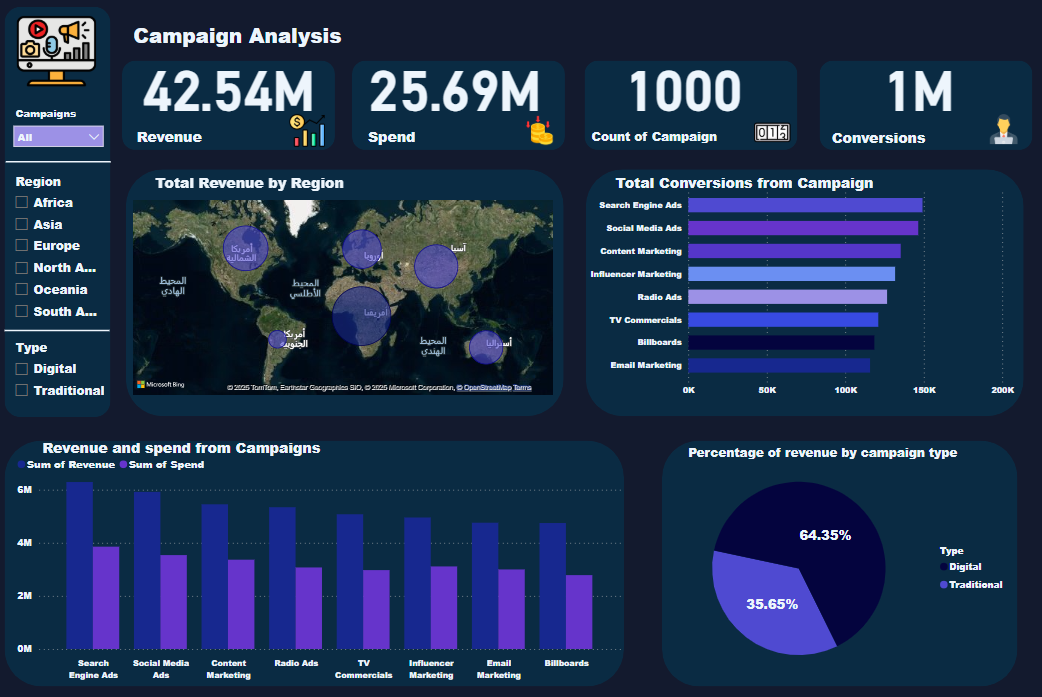

The dashboard page shown, as its layout file describes it:
{"tool":"powerbi","page":{"name":"Marketing Campaign Analysis","canvas":[1395,940],"ordinal":0},"visuals":[{"type":"shape","box":[1096.1,82.9,283.9,119.5],"z":0},{"type":"shape","box":[783.7,82.9,283.9,119.5],"z":1000},{"type":"shape","box":[472.7,82.9,283.9,119.5],"z":2000},{"type":"shape","box":[9.5,10.9,141.3,547.4],"z":3000},{"type":"shape","box":[11.2,443.7,140.4,28.7],"z":5000},{"type":"shape","box":[167.1,82.9,283.9,119.5],"z":6000},{"type":"card","fields":{"Values":["Sum(marketing campaign performance.Revenue)"]},"box":[176.6,62.5,264.9,104.6],"z":7000},{"type":"card","fields":{"Values":["Sum(marketing campaign performance.Spend)"]},"box":[472.7,62.5,274.4,104.6],"z":8000},{"type":"card","fields":{"Values":["marketing campaign details.Top Campaign"]},"box":[1088.4,57.5,300,142],"z":9000},{"type":"textbox","box":[176.6,167.1,105.9,39.4],"z":11000},{"type":"textbox","box":[472.7,167.1,105.9,39.4],"z":12000},{"type":"textbox","box":[783.7,167.1,105.9,39.4],"z":13000},{"type":"textbox","box":[785.2,167.6,186.7,38.3],"z":14000},{"type":"textbox","box":[1075.7,167.6,209.1,38.3],"z":15000},{"type":"shape","box":[171.5,227.5,584,329.4],"z":16000},{"type":"shape","box":[784.4,227.5,584,329.4],"z":17000},{"type":"shape","box":[10,590,826,328],"z":18000},{"type":"shape","box":[886,590,474,328],"z":19000},{"type":"map","fields":{"Size":["Sum(marketing campaign performance.Revenue)"],"Category":["marketing campaign performance.Region"]},"box":[176.2,265,570,270],"z":20000},{"type":"textbox","box":[202,228,270,38],"z":21000},{"type":"clusteredColumnChart","fields":{"Category":["marketing campaign performance.CampaignName"],"Y":["Sum(marketing campaign performance.Revenue)","Sum(marketing campaign performance.Spend)"]},"box":[21.2,601.2,815,316.2],"z":22000},{"type":"textbox","box":[50,581.7,391.7,38.3],"z":23000},{"type":"pieChart","fields":{"Category":["marketing campaign details.Type"],"Y":["Sum(marketing campaign performance.Revenue)"]},"box":[876.7,581.7,478.3,358.3],"z":24000},{"type":"textbox","box":[916.7,590,390,38.3],"z":25000},{"type":"clusteredBarChart","fields":{"Y":["Sum(marketing campaign performance.Conversions)"],"Category":["marketing campaign performance.Industry"]},"box":[785,241.7,576.7,300],"z":26000},{"type":"textbox","box":[805.9,228.2,410.2,38.3],"z":27000},{"type":"slicer","fields":{"Values":["marketing campaign performance.CampaignName"]},"box":[9.6,167.6,140.4,290.5],"z":28000},{"type":"image","box":[21.7,11.7,115,118.3],"z":29000},{"type":"textbox","box":[177.1,25.7,468.6,51.4],"z":30000},{"type":"image","box":[385,145,56.7,63.3],"z":31000},{"type":"image","box":[698.3,150,50,53.3],"z":32000},{"type":"image","box":[993.3,150,80,58.3],"z":33000},{"type":"image","box":[1316.6,150,51.1,49.5],"z":34000},{"type":"slicer","fields":{"Values":["marketing campaign performance.Industry"]},"box":[11.2,477.2,140.4,63.8],"z":35000},{"type":"card","fields":{"Values":["Avg(marketing campaign performance.ROI)"]},"box":[785.2,62.2,274.5,105.3],"z":36000},{"type":"shape","box":[9.6,130.9,140.4,28.7],"z":36001}]}

Visuals, with their boxes in screenshot pixels (x1, y1, x2, y2), scaled from the page's 1395x940 canvas onto the 1042x697 screenshot:
shape: rect(819, 61, 1031, 150)
shape: rect(585, 61, 797, 150)
shape: rect(353, 61, 565, 150)
shape: rect(7, 8, 113, 414)
shape: rect(8, 329, 113, 350)
shape: rect(125, 61, 337, 150)
card - Sum(marketing campaign performance.Revenue): rect(132, 46, 330, 124)
card - Sum(marketing campaign performance.Spend): rect(353, 46, 558, 124)
card - marketing campaign details.Top Campaign: rect(813, 43, 1037, 148)
textbox: rect(132, 124, 211, 153)
textbox: rect(353, 124, 432, 153)
textbox: rect(585, 124, 664, 153)
textbox: rect(587, 124, 726, 153)
textbox: rect(803, 124, 960, 153)
shape: rect(128, 169, 564, 413)
shape: rect(586, 169, 1022, 413)
shape: rect(7, 437, 624, 681)
shape: rect(662, 437, 1016, 681)
map - Sum(marketing campaign performance.Revenue) x marketing campaign performance.Region: rect(132, 196, 557, 397)
textbox: rect(151, 169, 353, 197)
clusteredColumnChart - marketing campaign performance.CampaignName x Sum(marketing campaign performance.Revenue): rect(16, 446, 625, 680)
textbox: rect(37, 431, 330, 460)
pieChart - marketing campaign details.Type x Sum(marketing campaign performance.Revenue): rect(655, 431, 1012, 696)
textbox: rect(685, 437, 976, 466)
clusteredBarChart - Sum(marketing campaign performance.Conversions) x marketing campaign performance.Industry: rect(586, 179, 1017, 402)
textbox: rect(602, 169, 908, 198)
slicer - marketing campaign performance.CampaignName: rect(7, 124, 112, 340)
image: rect(16, 9, 102, 96)
textbox: rect(132, 19, 482, 57)
image: rect(288, 108, 330, 154)
image: rect(522, 111, 559, 151)
image: rect(742, 111, 802, 154)
image: rect(983, 111, 1022, 148)
slicer - marketing campaign performance.Industry: rect(8, 354, 113, 401)
card - Avg(marketing campaign performance.ROI): rect(587, 46, 792, 124)
shape: rect(7, 97, 112, 118)
